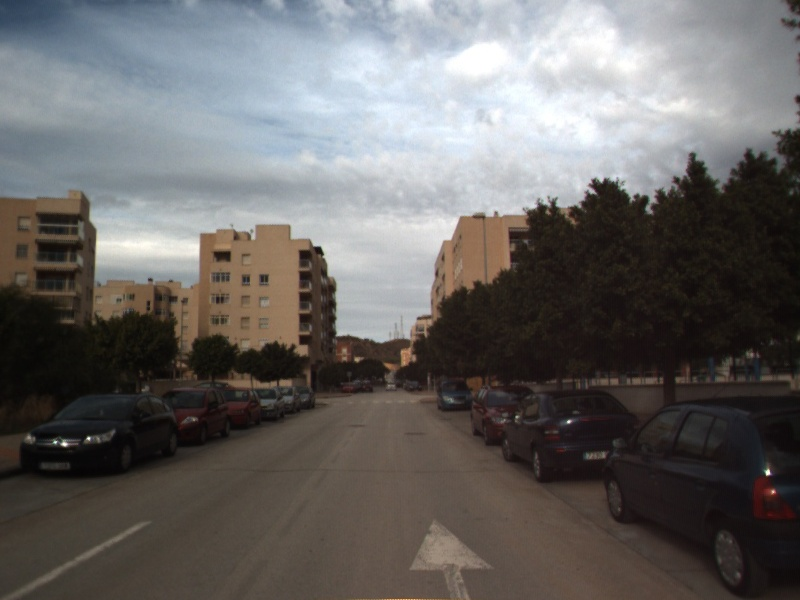STRAIGHT: (407, 515, 498, 600)
